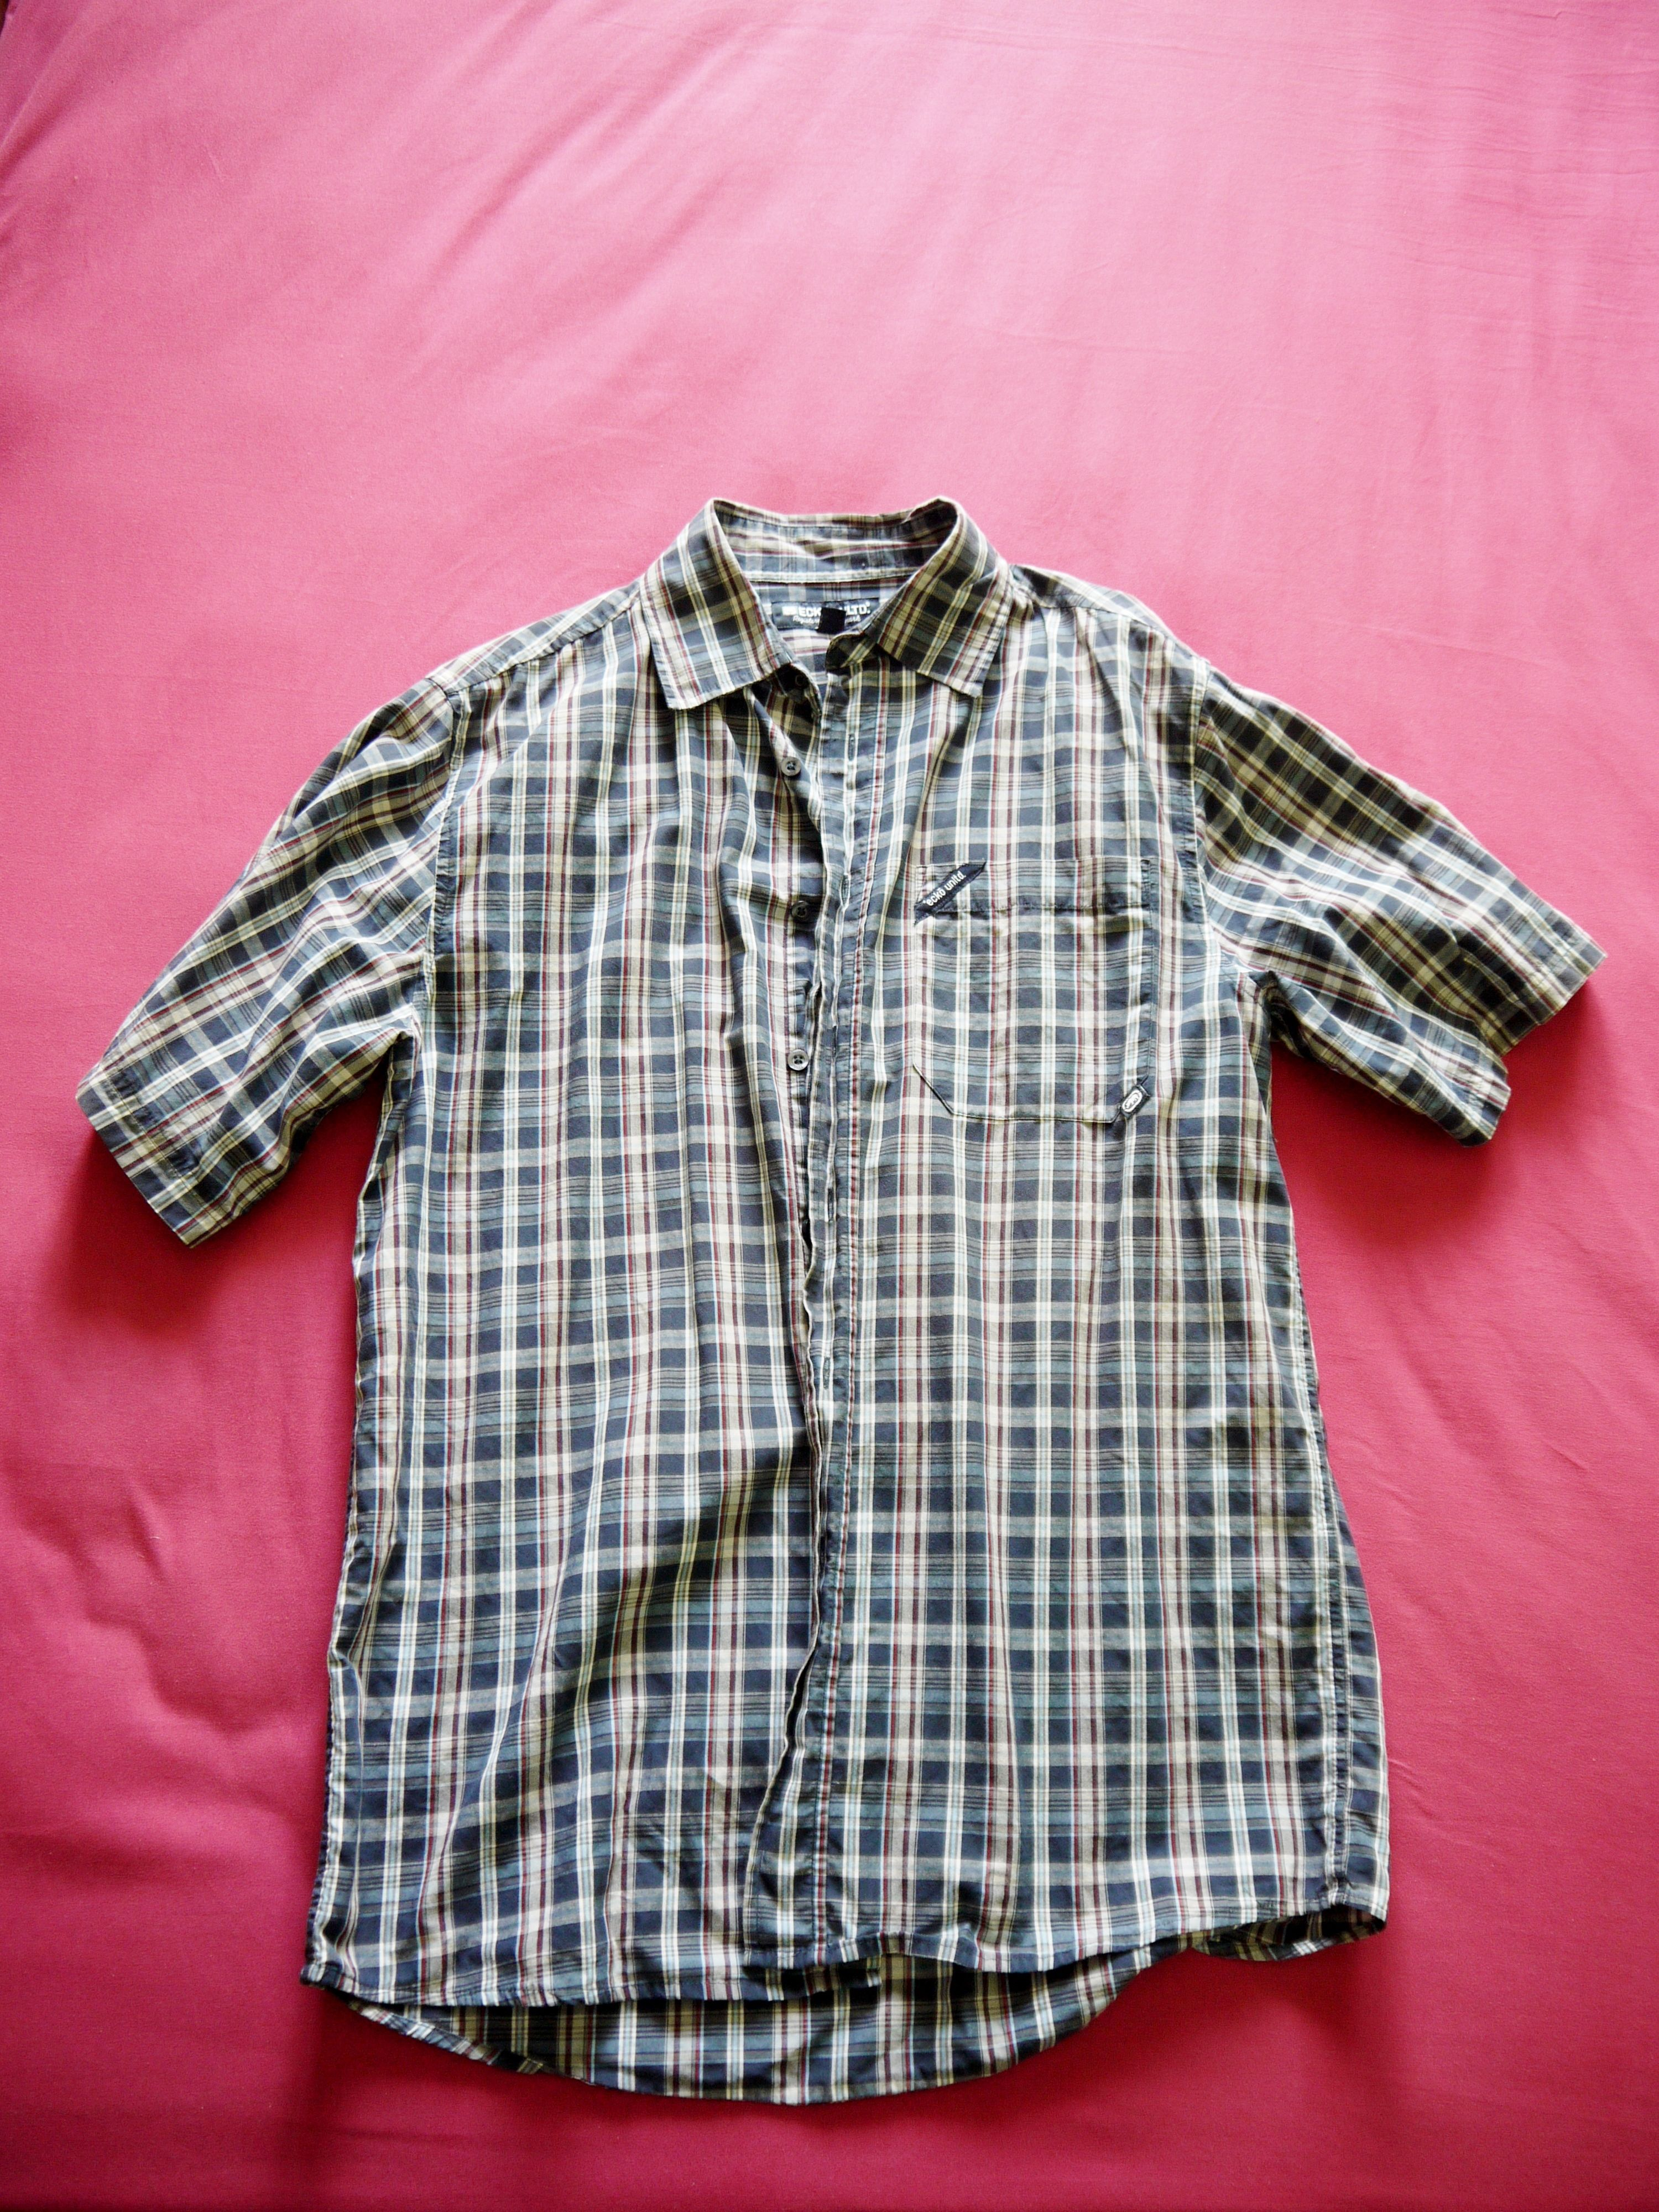clothes: (44, 469, 1593, 2045)
